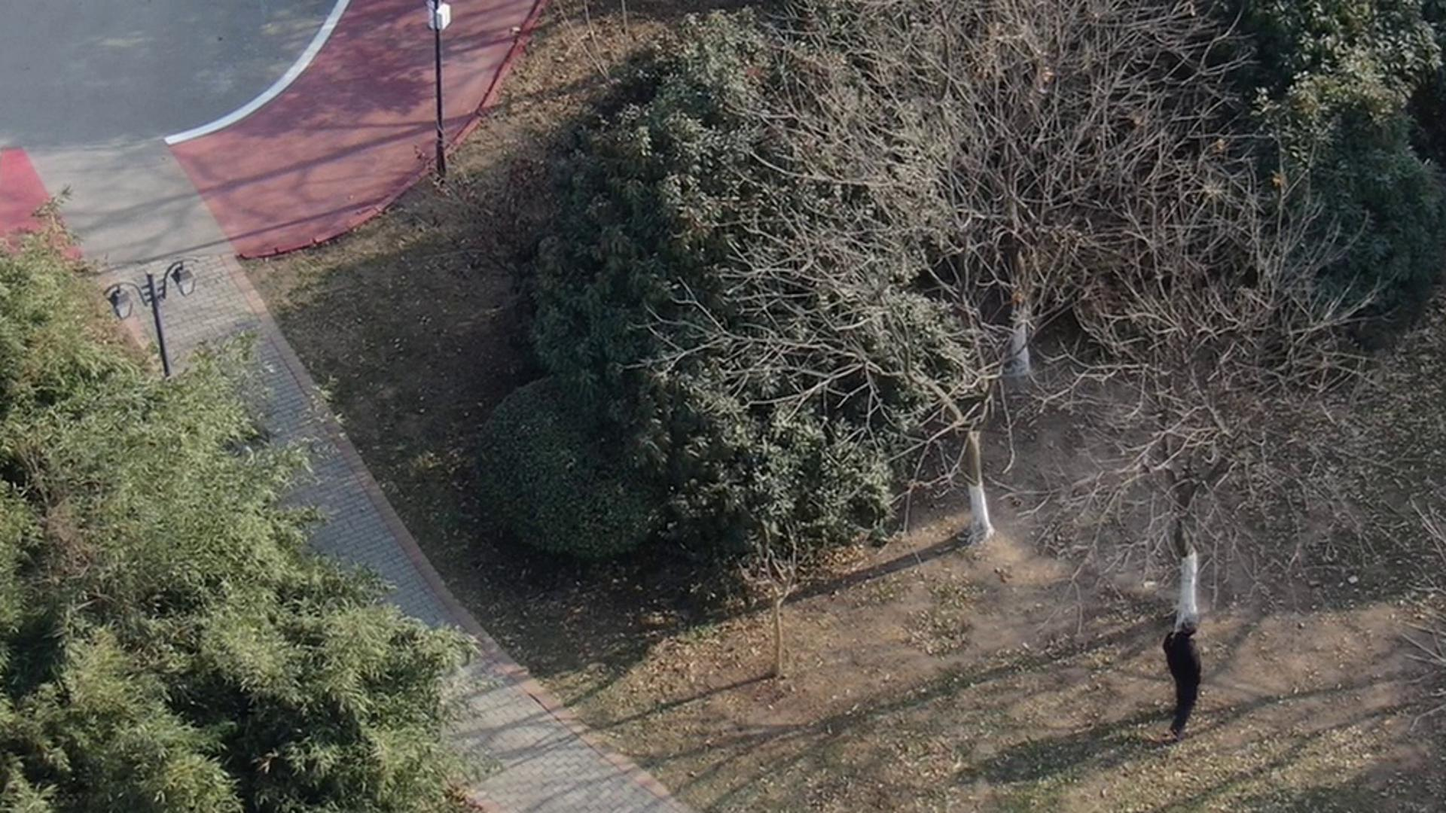human: (1157, 598, 1198, 700)
